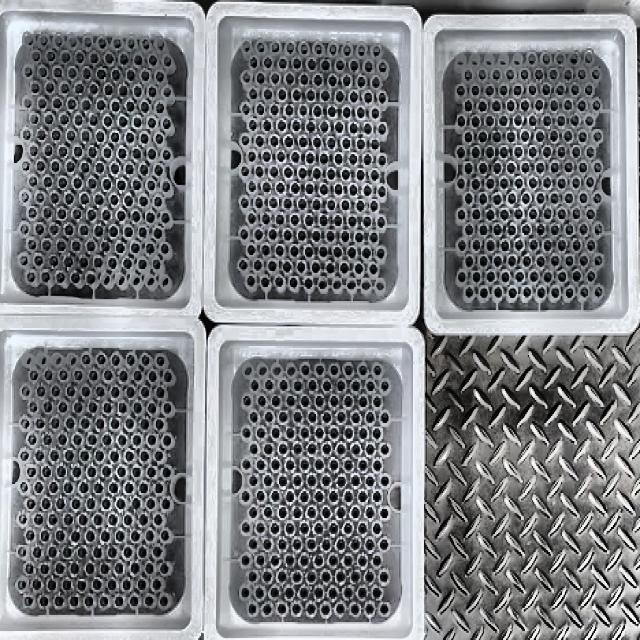vial: (161, 433, 175, 447), (155, 352, 168, 367), (159, 560, 171, 575), (270, 554, 281, 569), (140, 352, 152, 365), (46, 546, 58, 559), (52, 595, 64, 608), (376, 121, 388, 134), (19, 415, 30, 429), (245, 274, 256, 288), (380, 601, 390, 616), (276, 603, 286, 618), (76, 578, 86, 593), (162, 401, 174, 413), (152, 480, 164, 492), (270, 523, 281, 536), (471, 239, 482, 252), (500, 269, 511, 282), (471, 270, 482, 283), (114, 562, 125, 575), (144, 595, 155, 608), (240, 133, 251, 146), (380, 379, 390, 393), (380, 474, 390, 488), (379, 537, 389, 551), (335, 537, 345, 551), (292, 537, 302, 551), (578, 129, 588, 143), (31, 578, 41, 592), (301, 362, 310, 377), (81, 349, 90, 364), (470, 84, 482, 95), (519, 98, 530, 110), (549, 288, 560, 300), (50, 385, 61, 397), (70, 433, 82, 444), (18, 480, 29, 492), (266, 259, 278, 270), (380, 444, 390, 457), (271, 459, 281, 472), (350, 505, 360, 518), (292, 506, 302, 519), (308, 572, 318, 585), (291, 570, 301, 583), (372, 587, 382, 600), (350, 603, 360, 616), (306, 605, 316, 618), (570, 51, 580, 64), (499, 144, 509, 157), (154, 449, 164, 462), (71, 465, 81, 478), (146, 497, 156, 510), (18, 513, 28, 526), (46, 513, 56, 526), (109, 515, 119, 528), (145, 529, 155, 542), (55, 562, 65, 575), (361, 154, 374, 164), (260, 149, 270, 162), (239, 164, 249, 177), (248, 179, 258, 192), (260, 243, 270, 256), (350, 537, 359, 551), (471, 206, 480, 220), (46, 578, 55, 592), (240, 554, 251, 565), (518, 161, 529, 172), (470, 179, 481, 190), (110, 354, 121, 365), (154, 418, 165, 429), (128, 595, 139, 606), (298, 105, 309, 116), (304, 120, 315, 131), (275, 118, 286, 129), (304, 215, 315, 226), (331, 246, 342, 257), (350, 444, 360, 456), (301, 460, 311, 472), (329, 521, 339, 533), (306, 539, 316, 551), (248, 570, 258, 582), (519, 129, 529, 141), (515, 270, 525, 282), (464, 285, 474, 297), (132, 370, 142, 382), (131, 401, 141, 413), (58, 401, 68, 413), (116, 434, 126, 446), (139, 480, 149, 492), (160, 498, 170, 510), (106, 578, 116, 590), (136, 580, 146, 592), (114, 596, 124, 608), (348, 90, 358, 102), (334, 152, 344, 164), (352, 200, 364, 210), (330, 426, 339, 439), (240, 490, 249, 503), (249, 506, 258, 519), (380, 570, 389, 583), (291, 603, 300, 616), (262, 603, 271, 616), (499, 84, 508, 97), (506, 98, 515, 111), (565, 285, 574, 298), (131, 434, 140, 447), (19, 449, 28, 462), (35, 449, 44, 462), (80, 480, 89, 493), (122, 546, 131, 559), (70, 562, 79, 575), (92, 577, 101, 590), (256, 102, 265, 115), (262, 180, 271, 193), (276, 180, 285, 193), (239, 195, 248, 208), (285, 459, 295, 470), (336, 475, 346, 486), (365, 506, 375, 517), (351, 572, 361, 583), (240, 587, 250, 598), (490, 69, 500, 80), (490, 98, 501, 108), (470, 115, 480, 126), (541, 146, 551, 157), (492, 254, 502, 265), (95, 418, 105, 429), (152, 513, 162, 524), (85, 531, 95, 542), (98, 564, 109, 574), (238, 259, 249, 269), (262, 56, 272, 67), (320, 59, 330, 70), (335, 59, 345, 70), (362, 59, 372, 70), (361, 121, 372, 131), (275, 244, 285, 255), (366, 380, 375, 392), (336, 380, 345, 392), (250, 380, 259, 392), (241, 426, 250, 438), (279, 442, 288, 454), (242, 460, 251, 472), (359, 460, 368, 472), (336, 506, 345, 518), (300, 521, 309, 533), (321, 539, 330, 551), (329, 554, 338, 566), (321, 570, 330, 582), (262, 570, 271, 582), (546, 98, 555, 110), (529, 270, 538, 282), (522, 285, 531, 297), (486, 270, 495, 282), (146, 434, 155, 446), (42, 434, 51, 446), (26, 434, 35, 446), (131, 465, 140, 477), (116, 465, 125, 477), (41, 465, 50, 477), (25, 498, 34, 510), (145, 562, 154, 574), (40, 562, 49, 574), (369, 262, 378, 274), (340, 262, 349, 274), (279, 57, 288, 69), (291, 88, 300, 100), (285, 103, 294, 115), (355, 167, 364, 179), (239, 226, 248, 238), (290, 244, 299, 256), (330, 362, 338, 375), (344, 362, 352, 375), (381, 411, 389, 424), (322, 506, 330, 519), (161, 465, 169, 478), (131, 529, 139, 542), (18, 546, 26, 559), (378, 185, 386, 198), (321, 380, 331, 390), (300, 398, 310, 408), (299, 428, 309, 438), (546, 69, 556, 79), (528, 115, 538, 125), (548, 193, 558, 203), (491, 226, 501, 236), (500, 241, 510, 251), (125, 354, 135, 364), (118, 370, 128, 380), (72, 370, 82, 380), (95, 387, 105, 397), (155, 387, 165, 397), (102, 403, 112, 413), (72, 401, 82, 411), (86, 434, 96, 444), (79, 451, 89, 461), (139, 449, 149, 459), (54, 465, 64, 475), (25, 465, 35, 475), (55, 531, 65, 541), (69, 596, 79, 606), (355, 75, 365, 85), (332, 121, 342, 131), (275, 213, 285, 223), (315, 364, 324, 375), (372, 364, 381, 375), (350, 379, 359, 390), (242, 395, 251, 406), (271, 395, 280, 406), (351, 411, 360, 422), (366, 442, 375, 453), (315, 459, 324, 470), (256, 490, 265, 501), (270, 490, 279, 501), (380, 508, 389, 519), (279, 506, 288, 517), (241, 523, 250, 534), (256, 523, 265, 534), (372, 523, 381, 534), (315, 556, 324, 567), (269, 587, 278, 598), (365, 605, 374, 616), (335, 603, 344, 614), (321, 605, 330, 616), (456, 84, 465, 95), (582, 82, 591, 93), (456, 115, 465, 126), (456, 146, 465, 157), (485, 146, 494, 157), (486, 177, 495, 188), (521, 192, 530, 203), (536, 256, 545, 267), (139, 418, 148, 429), (49, 451, 58, 462), (146, 465, 155, 476), (160, 531, 169, 542), (100, 531, 109, 542), (70, 531, 79, 542), (40, 531, 49, 542), (25, 531, 34, 542), (76, 546, 85, 557), (85, 562, 94, 573), (159, 595, 168, 606), (311, 261, 320, 272), (282, 261, 291, 272), (300, 74, 309, 85), (291, 120, 300, 131), (249, 118, 258, 129), (299, 136, 308, 147), (370, 138, 379, 149), (349, 184, 358, 195), (319, 215, 328, 226), (290, 213, 299, 224), (376, 246, 385, 257), (19, 578, 26, 592), (294, 380, 302, 392), (366, 411, 374, 423), (366, 475, 374, 487), (592, 98, 600, 110), (536, 129, 544, 141), (486, 208, 494, 220), (558, 206, 566, 218), (572, 206, 580, 218), (522, 224, 530, 236), (508, 224, 516, 236), (514, 239, 522, 251), (594, 285, 602, 297), (558, 270, 566, 282), (492, 285, 500, 297), (458, 270, 466, 282), (148, 370, 156, 382), (88, 401, 96, 413), (101, 498, 109, 510), (42, 498, 50, 510), (64, 547, 72, 559), (24, 560, 32, 572), (152, 578, 160, 590), (84, 596, 92, 608), (378, 154, 386, 166), (284, 229, 292, 241), (359, 362, 366, 375), (334, 182, 341, 195), (309, 379, 318, 389), (279, 380, 288, 390), (292, 411, 301, 421), (256, 428, 265, 438), (271, 428, 280, 438), (315, 428, 324, 438), (359, 428, 368, 438), (336, 444, 345, 454), (321, 444, 330, 454), (306, 446, 315, 456), (351, 475, 360, 485), (321, 475, 330, 485), (292, 475, 301, 485), (372, 492, 382, 501), (359, 523, 368, 533), (262, 539, 271, 549), (315, 588, 324, 598), (506, 69, 515, 79), (486, 116, 495, 126), (556, 115, 565, 125), (471, 147, 480, 157), (506, 161, 515, 171), (499, 177, 508, 187), (585, 177, 594, 187), (592, 193, 601, 203), (579, 193, 588, 203), (492, 193, 501, 203), (542, 208, 551, 218), (479, 224, 488, 234), (486, 241, 495, 251), (571, 241, 580, 251), (585, 239, 594, 249), (542, 272, 551, 282), (479, 287, 488, 297), (96, 354, 105, 364), (102, 369, 111, 379), (81, 387, 90, 397), (125, 387, 134, 397), (42, 401, 51, 411), (35, 418, 44, 428), (65, 418, 74, 428), (102, 436, 111, 446), (131, 500, 140, 510), (116, 498, 125, 508), (55, 498, 64, 508), (76, 515, 86, 524), (115, 531, 124, 541), (32, 547, 41, 557), (92, 547, 101, 557), (106, 546, 115, 556), (129, 560, 138, 570), (39, 596, 48, 606), (289, 277, 298, 287), (252, 259, 261, 269), (349, 59, 358, 69), (279, 88, 288, 98), (320, 121, 329, 131), (341, 169, 350, 179), (325, 200, 334, 210), (246, 211, 255, 221), (369, 233, 378, 243), (361, 246, 370, 256), (319, 246, 328, 256), (246, 244, 255, 254), (344, 395, 352, 406), (374, 459, 382, 470), (300, 556, 308, 567), (250, 605, 258, 616), (564, 69, 572, 80), (461, 100, 472, 108), (514, 146, 522, 157), (550, 161, 558, 172), (558, 177, 566, 188), (522, 254, 530, 265), (508, 254, 516, 265), (508, 287, 516, 298), (118, 401, 126, 412), (80, 418, 88, 429), (110, 418, 118, 429), (64, 449, 72, 460), (34, 482, 42, 493), (124, 482, 132, 493), (34, 513, 42, 524), (64, 513, 72, 524), (138, 513, 146, 524), (138, 546, 146, 557), (122, 578, 130, 589), (98, 595, 106, 606), (250, 56, 258, 67), (378, 61, 386, 72), (342, 74, 350, 85), (328, 74, 336, 85), (314, 74, 322, 85), (312, 136, 320, 147), (276, 151, 284, 162), (254, 166, 262, 177), (284, 166, 292, 177), (371, 169, 379, 180), (291, 182, 299, 193), (370, 200, 378, 211), (361, 215, 369, 226), (262, 213, 270, 224), (309, 411, 316, 423), (279, 475, 286, 487), (308, 506, 315, 518), (264, 506, 271, 518), (278, 539, 285, 551), (249, 537, 256, 549), (258, 588, 265, 600), (564, 98, 571, 110), (458, 208, 465, 220), (499, 206, 506, 218), (551, 224, 558, 236), (544, 239, 551, 251), (588, 270, 595, 282), (88, 465, 95, 477), (24, 596, 31, 608), (365, 90, 372, 102), (255, 134, 262, 146), (284, 134, 291, 146), (372, 428, 381, 437), (300, 492, 309, 501), (315, 492, 324, 501), (329, 492, 338, 501), (365, 539, 374, 548), (256, 556, 265, 565), (571, 146, 580, 155), (549, 129, 558, 138), (576, 161, 585, 170), (579, 256, 588, 265), (565, 256, 574, 265), (549, 256, 558, 265), (479, 256, 488, 265), (151, 547, 160, 556), (316, 279, 325, 288), (260, 275, 269, 284), (356, 138, 365, 147), (306, 152, 315, 161), (332, 215, 341, 224), (264, 411, 272, 421), (264, 444, 272, 454), (250, 446, 258, 456), (331, 460, 339, 470), (344, 460, 352, 470), (308, 475, 316, 485), (286, 524, 294, 534), (366, 572, 374, 582), (278, 570, 286, 580), (592, 69, 600, 79), (514, 85, 522, 95), (478, 100, 486, 110), (514, 115, 522, 125), (571, 115, 579, 125), (529, 146, 539, 154), (492, 162, 500, 172), (528, 177, 536, 187), (564, 193, 572, 203), (536, 193, 544, 203), (464, 193, 472, 203), (514, 208, 522, 218), (528, 208, 536, 218), (530, 239, 538, 249), (572, 270, 580, 280), (580, 285, 588, 295), (164, 372, 172, 382), (90, 370, 98, 380), (58, 369, 66, 379), (140, 385, 148, 395), (148, 401, 156, 411), (58, 434, 66, 444), (101, 467, 111, 475), (64, 482, 72, 492), (94, 482, 102, 492), (62, 580, 70, 590), (321, 90, 329, 100), (256, 72, 264, 82), (264, 88, 272, 98), (350, 123, 358, 133), (246, 151, 254, 161), (298, 167, 306, 177), (378, 216, 386, 226), (348, 216, 356, 226), (254, 228, 262, 238), (312, 231, 320, 241), (341, 231, 349, 241), (348, 247, 356, 257), (265, 379, 272, 390), (288, 395, 295, 406), (279, 410, 286, 421), (345, 428, 352, 439), (258, 459, 265, 470), (464, 69, 471, 80), (595, 254, 602, 265), (538, 287, 545, 298), (124, 515, 131, 526), (249, 87, 256, 98), (319, 184, 326, 195), (305, 182, 312, 193), (322, 413, 330, 422), (286, 492, 294, 501), (286, 556, 294, 565), (329, 588, 338, 596), (478, 69, 486, 78), (576, 69, 585, 77), (486, 85, 494, 94), (542, 84, 550, 93), (571, 84, 579, 93), (462, 131, 471, 139), (556, 144, 564, 153), (572, 177, 580, 186), (480, 193, 488, 202), (585, 206, 591, 218), (66, 387, 75, 395), (110, 388, 118, 397), (124, 451, 132, 460), (292, 59, 301, 67), (342, 107, 350, 116), (342, 138, 350, 147), (361, 184, 370, 192), (254, 197, 262, 206), (341, 200, 349, 209), (294, 444, 301, 454), (264, 475, 271, 485), (249, 477, 256, 487), (344, 523, 351, 533), (285, 588, 292, 598), (578, 100, 585, 110), (508, 131, 515, 141), (479, 131, 486, 141), (479, 162, 486, 172), (464, 162, 471, 172), (515, 177, 522, 187), (544, 177, 551, 187), (565, 224, 572, 234), (464, 223, 471, 233), (459, 241, 466, 251), (464, 254, 471, 264), (71, 498, 78, 508), (378, 90, 385, 100), (335, 90, 342, 100), (314, 105, 321, 115), (328, 103, 335, 113), (349, 152, 356, 162), (305, 244, 312, 254), (458, 177, 464, 188), (305, 275, 310, 288), (330, 398, 338, 406), (286, 428, 294, 436), (358, 556, 366, 564), (300, 588, 308, 596), (492, 131, 500, 139), (110, 452, 118, 460), (352, 262, 360, 270), (371, 108, 379, 116), (291, 151, 299, 159), (312, 167, 320, 175), (312, 200, 320, 208), (296, 231, 304, 239), (359, 397, 366, 406), (344, 492, 351, 501), (359, 492, 366, 501), (315, 523, 322, 532), (344, 556, 351, 565), (374, 556, 381, 565), (535, 69, 542, 78), (508, 193, 515, 202), (595, 223, 602, 232), (95, 451, 102, 460), (49, 482, 56, 491), (109, 482, 116, 491), (94, 515, 101, 524), (372, 75, 379, 84), (264, 120, 271, 129), (269, 134, 276, 143), (268, 197, 275, 206), (296, 198, 305, 205), (338, 411, 344, 421), (249, 413, 255, 423), (544, 115, 550, 125), (565, 162, 571, 172), (536, 162, 542, 172), (538, 224, 544, 234), (320, 152, 326, 162), (355, 231, 361, 241), (259, 397, 266, 405), (535, 100, 542, 108), (564, 131, 571, 139), (125, 418, 132, 426), (275, 275, 282, 283), (325, 261, 332, 269), (355, 107, 362, 115), (269, 166, 276, 174), (316, 397, 322, 406), (374, 397, 380, 406), (528, 84, 534, 93), (556, 84, 562, 93), (580, 223, 586, 232), (86, 497, 92, 506), (284, 197, 290, 206), (270, 229, 276, 238), (336, 572, 342, 580), (344, 588, 350, 596), (358, 590, 366, 596), (558, 241, 564, 249), (326, 169, 332, 177), (326, 231, 332, 239), (500, 115, 505, 124), (50, 416, 55, 425), (298, 261, 305, 267), (328, 136, 332, 146), (520, 69, 526, 75), (308, 90, 312, 99), (272, 106, 278, 112)
